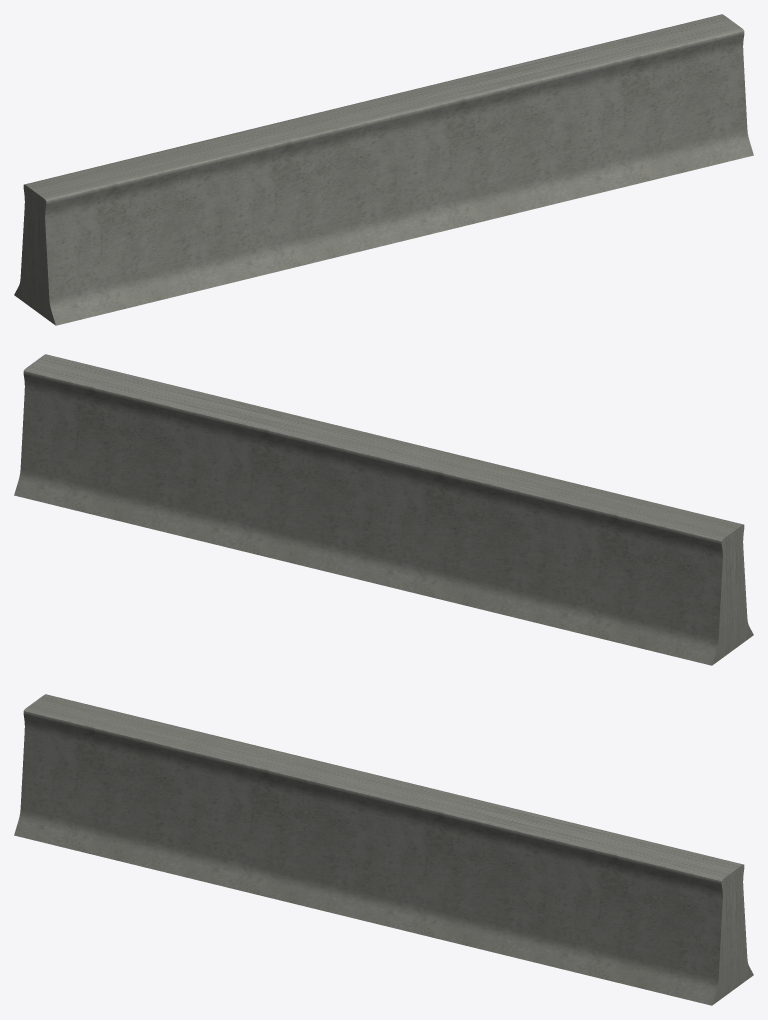
File: SM_Fence1-0.glb
3 renders of one model, top to bottom at view 1: azimuth 30°, elevation 25°; view 2: azimuth 150°, elevation 25°; view 3: azimuth 330°, elevation 25°, orthographic.
Parts seen in each view (by area): view 1: SM_Fence1-0; view 2: SM_Fence1-0; view 3: SM_Fence1-0.
Part boxes in pixels (<box>): SM_Fence1-0: <box>14,14,753,325</box>; SM_Fence1-0: <box>14,354,753,665</box>; SM_Fence1-0: <box>14,694,753,1005</box>.
Size of the model in its own units: 5 by 0.8111 by 0.5208.
1 material, 1 textured.
